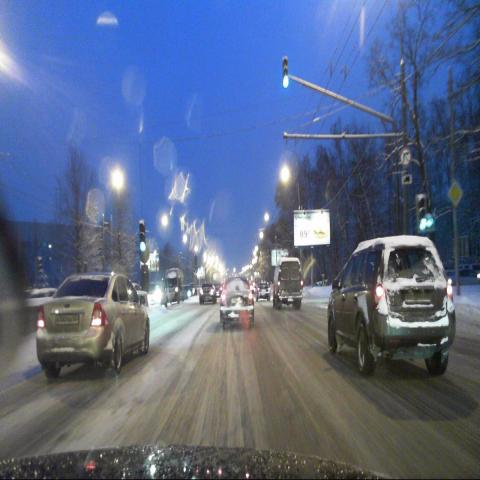3_18: (400, 147, 412, 168)
